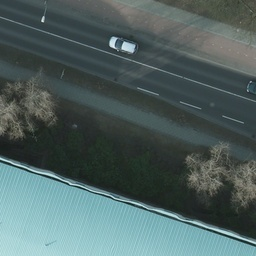car: (108, 36, 139, 54)
